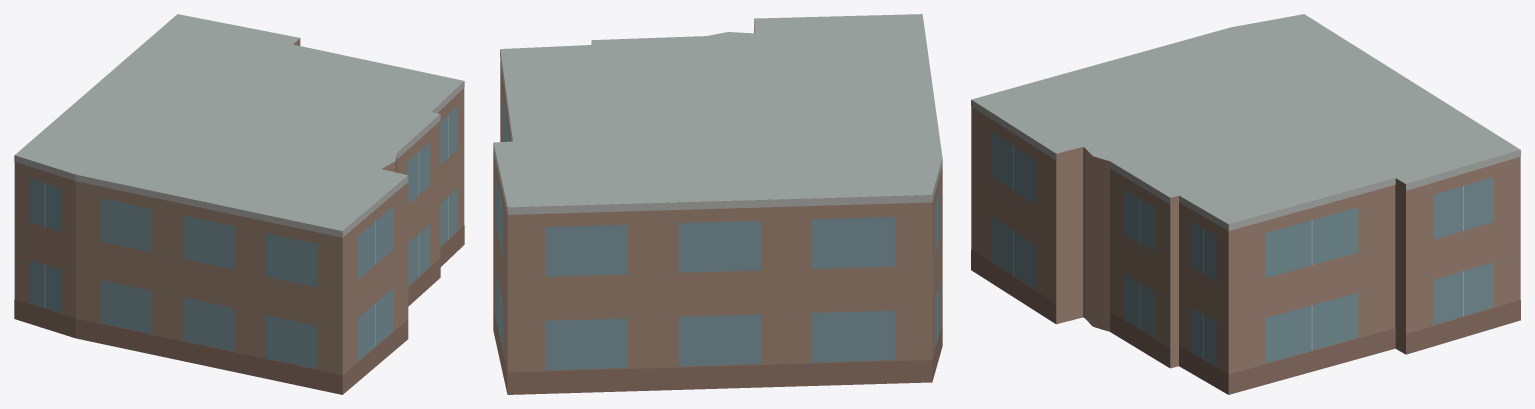
The model's file is survey-upis-32625519.glb.
The picture shows the model from 3 angles, left to right: view 1: azimuth 30°, elevation 25°; view 2: azimuth 150°, elevation 25°; view 3: azimuth 270°, elevation 25°; orthographic projection. The views are drawn at different scales.
Visible parts, largest first — view 1: survey-upis-32625519.tmp; view 2: survey-upis-32625519.tmp; view 3: survey-upis-32625519.tmp.
Part boxes in pixels (left/top/right/bottom): survey-upis-32625519.tmp: left=14, top=14, right=464, bottom=394; survey-upis-32625519.tmp: left=493, top=14, right=942, bottom=394; survey-upis-32625519.tmp: left=971, top=14, right=1520, bottom=394.
Size of the model in its own units: 16.14 by 6.1 by 17.82.
